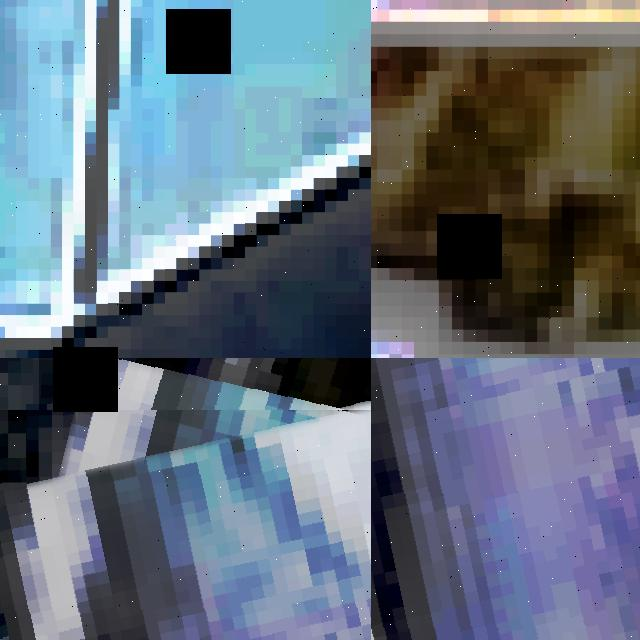arms: (39, 358, 371, 640), (0, 410, 371, 640), (371, 358, 640, 640), (371, 358, 640, 452)
